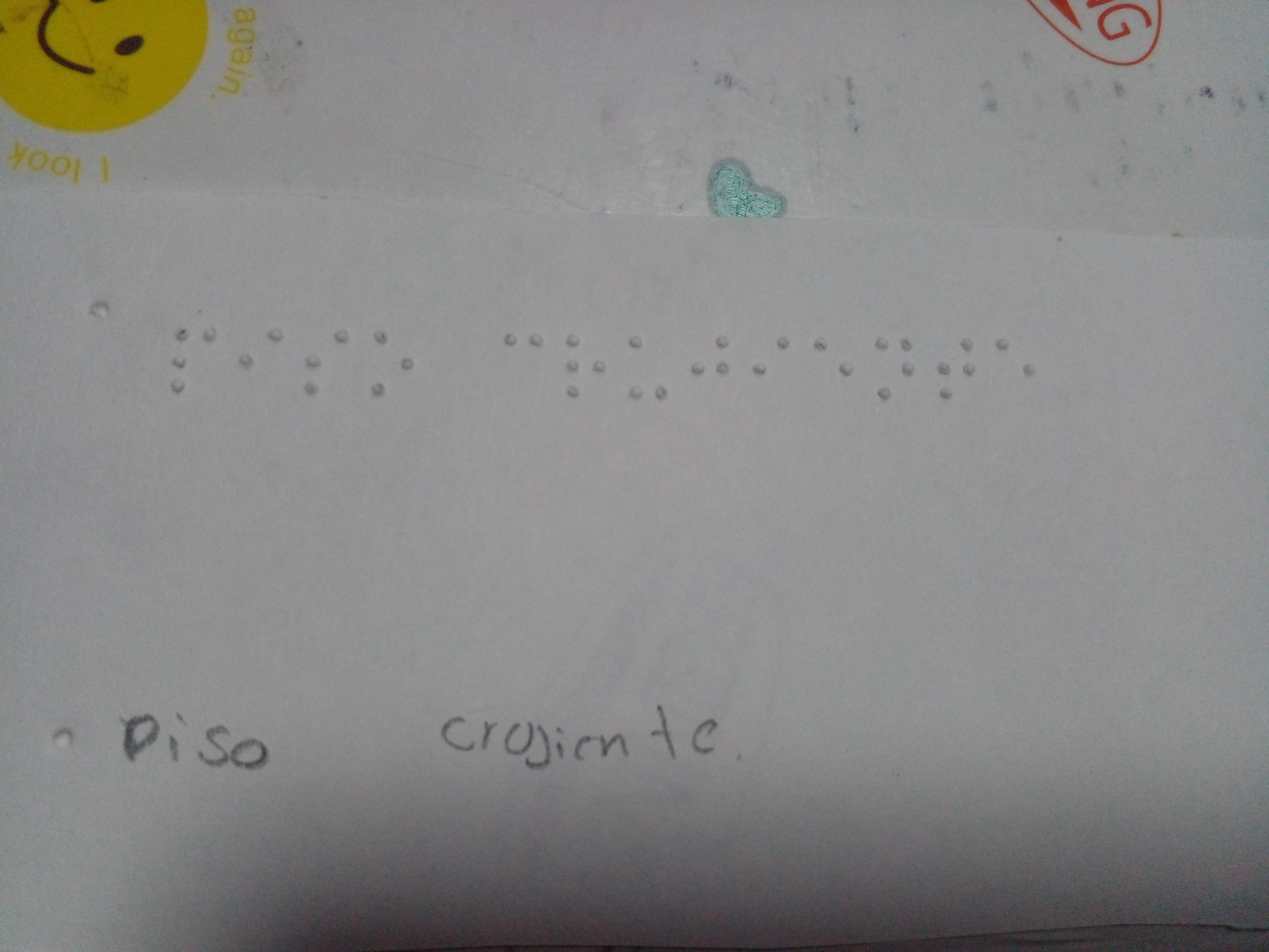c: (493, 316, 550, 366)
e: (985, 328, 1049, 394), (796, 327, 858, 394)
i: (231, 316, 285, 395), (742, 328, 793, 383)
j: (680, 328, 740, 395)
n: (872, 325, 920, 408)
o: (364, 322, 423, 408)
p: (156, 310, 223, 398)
r: (556, 325, 615, 403)
s: (294, 316, 353, 404)
t: (923, 327, 982, 409)
u: (620, 328, 674, 404)
